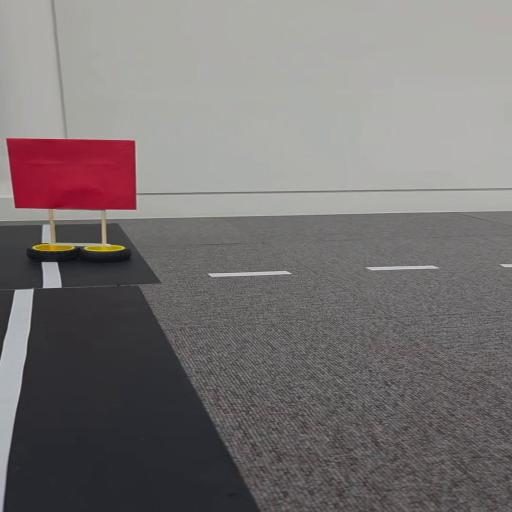Sign_A: (2, 134, 147, 272)
